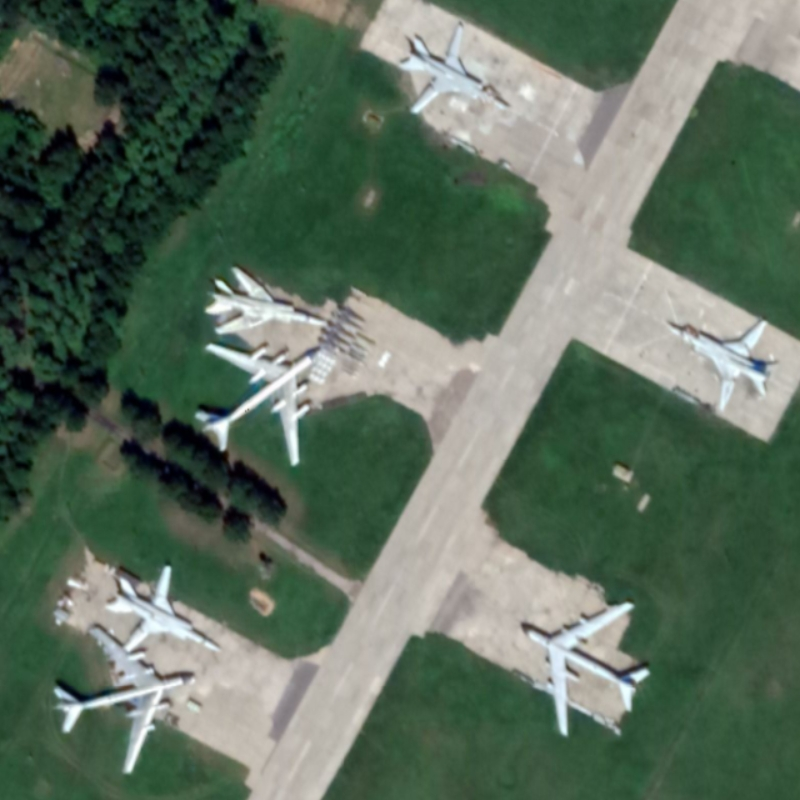A12: (666, 317, 780, 418), (103, 562, 226, 655), (396, 22, 509, 117), (201, 264, 330, 337)
A17: (51, 622, 198, 777), (522, 598, 654, 740), (192, 339, 325, 470)
